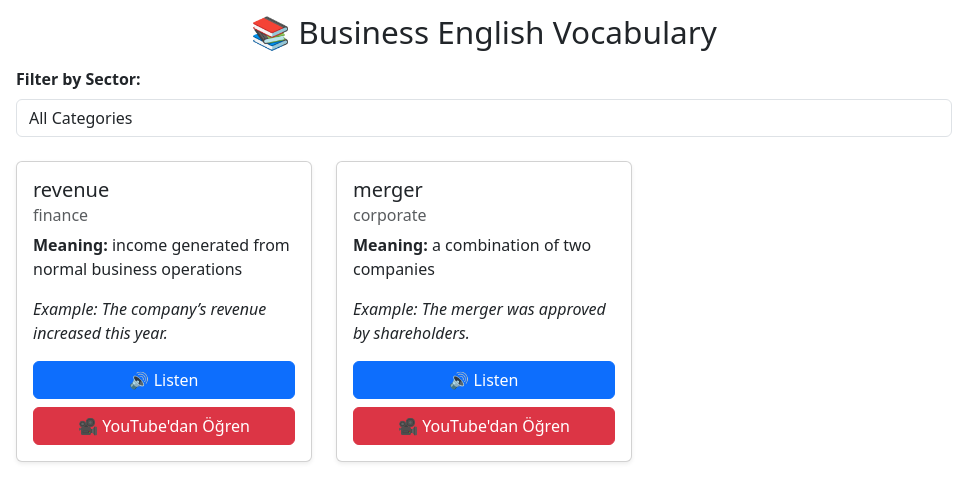
Test: BusinessEnglish Component › filters by selected category
Select "Finance" in the dropdown labelled "Filter by Sector:" at (484, 118), box [16, 99, 952, 137]
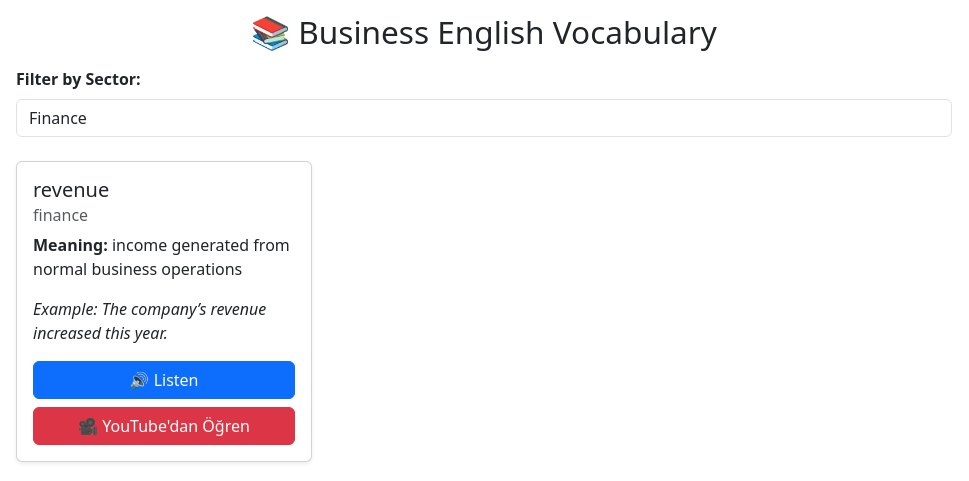
expect the text "revenue" is shown: met, box [33, 176, 109, 203]
expect the text "merger" is gone: met
